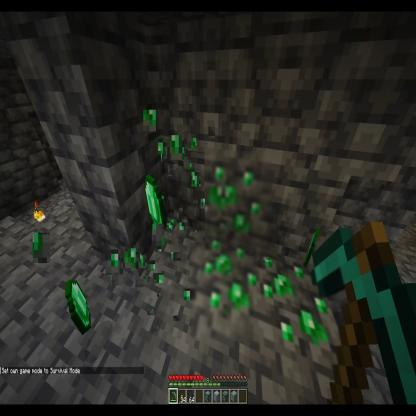emerald ore: (254, 262, 345, 380), (206, 151, 272, 260), (190, 243, 262, 341)
